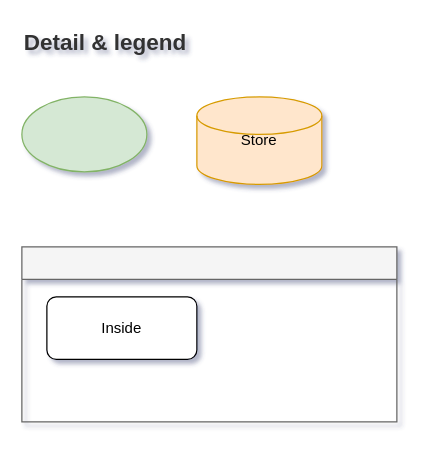
Image size: 426x451. Some labels were removed from this diagram. The shapes that lost their labels are listed below. From the top down, each one's box as (x1, y1, x2, y2) in pixels, then its label:
(21, 96, 147, 172): Round
(21, 246, 397, 422): Lane
